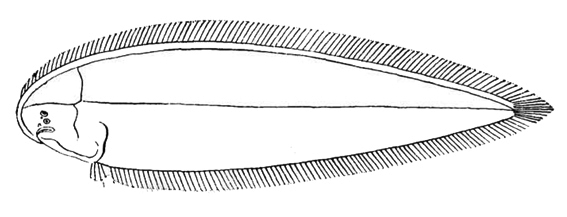fish: (16, 20, 554, 190)
